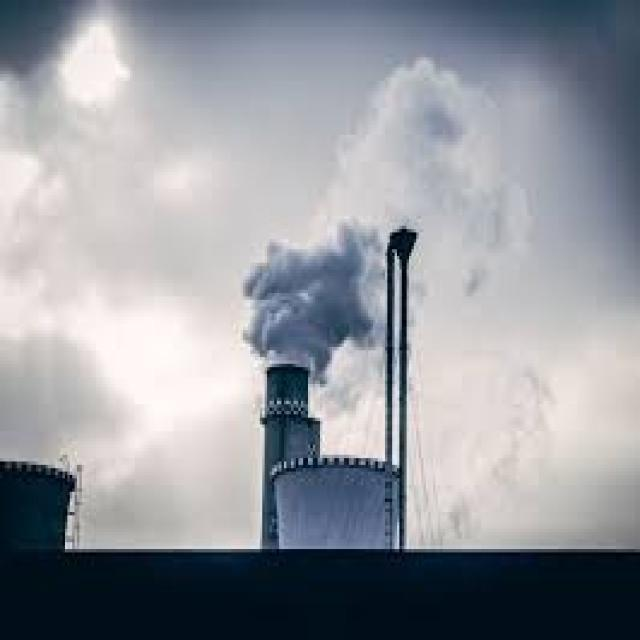Smoke: (242, 212, 387, 388)
